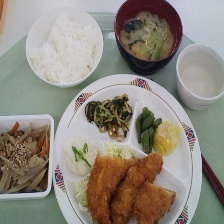rice: (24, 11, 102, 84)
